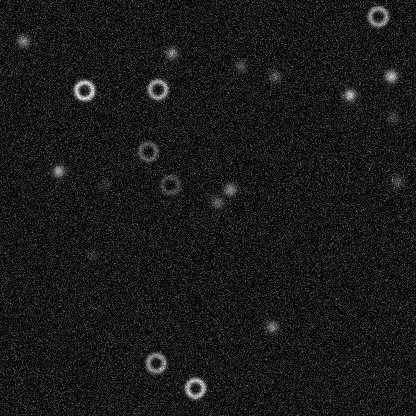Ring: (158, 172, 182, 196), (143, 350, 167, 374), (135, 139, 159, 163), (145, 77, 169, 101), (183, 375, 207, 399), (72, 78, 96, 102), (365, 4, 389, 28)
Spot: (96, 176, 112, 192), (163, 44, 179, 60), (14, 33, 30, 49), (341, 86, 357, 102), (388, 172, 404, 188), (263, 318, 279, 334), (209, 194, 225, 210), (84, 246, 100, 262), (222, 181, 238, 197), (266, 68, 282, 84), (232, 58, 248, 74), (384, 109, 400, 125), (382, 68, 398, 84), (50, 162, 66, 178)
